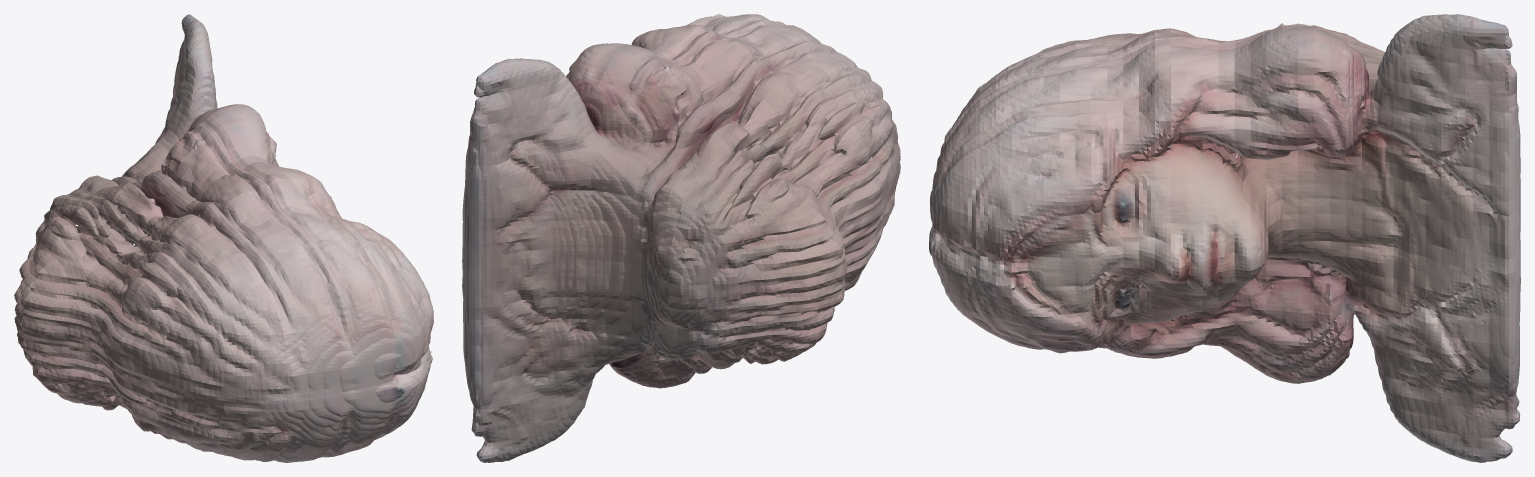
3 views of the same model, side by side, from view 1: azimuth 30°, elevation 25°; view 2: azimuth 150°, elevation 25°; view 3: azimuth 270°, elevation 25° (orthographic). The views are drawn at different scales.
Visible parts, largest first — view 1: world; view 2: world; view 3: world.
Boxes of the visible parts, x1,y1,x2,y2 form: world: [14, 14, 433, 462]; world: [462, 14, 900, 462]; world: [929, 14, 1520, 462].
Bounding box in the file's own units: 0.7344 × 0.84 × 1.01.
